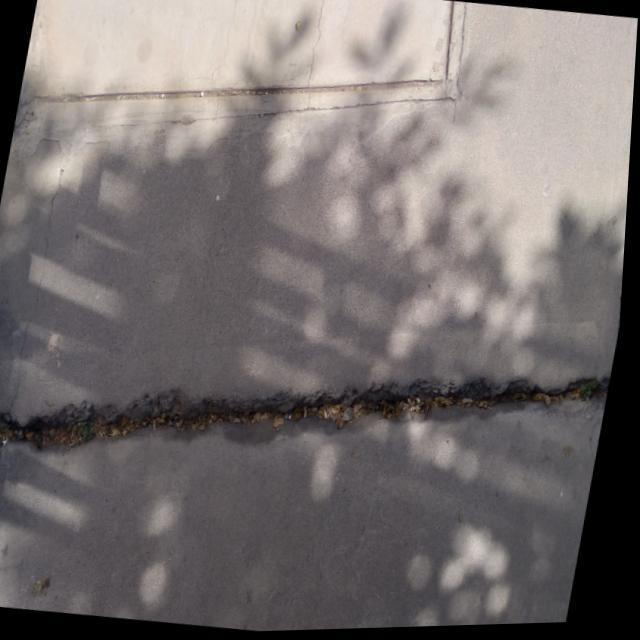hole: (0, 358, 588, 467)
